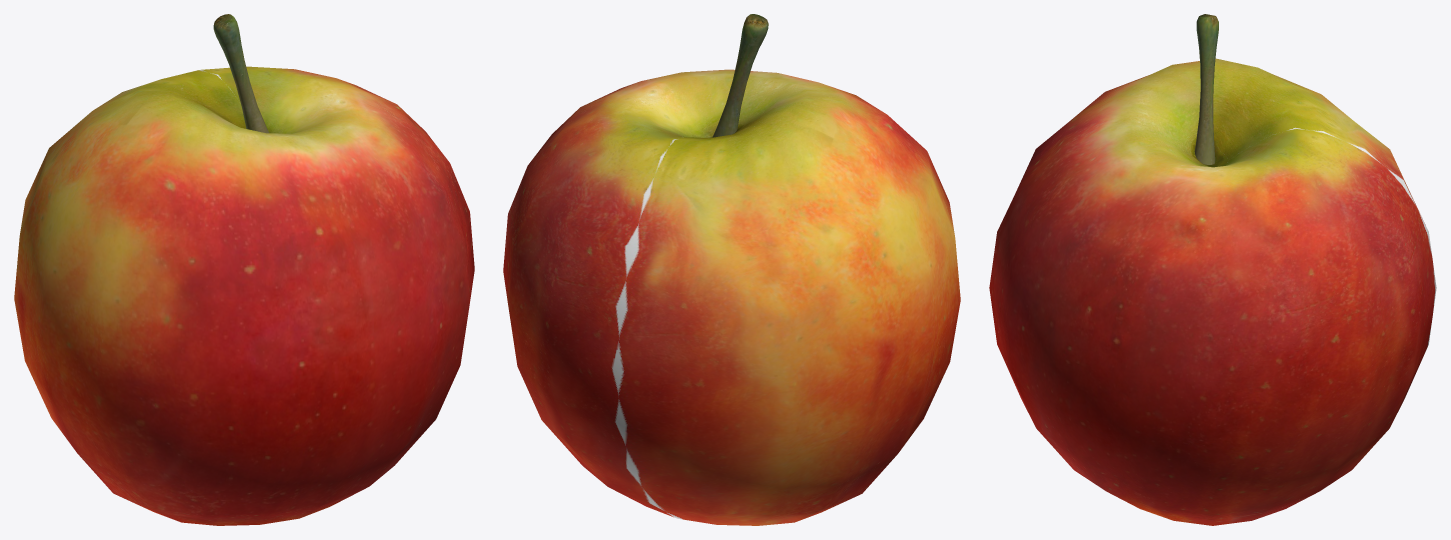
File: apple.glb
3 renders of one model, left to right at view 1: azimuth 30°, elevation 25°; view 2: azimuth 150°, elevation 25°; view 3: azimuth 270°, elevation 25°, orthographic. The views are drawn at different scales.
Visible parts, largest first — view 1: apple_Sphere; view 2: apple_Sphere; view 3: apple_Sphere.
Boxes of the visible parts, x1,y1,x2,y2 form: apple_Sphere: (14, 14, 474, 525); apple_Sphere: (503, 14, 960, 525); apple_Sphere: (989, 14, 1436, 525).
Bounding box in the file's own units: 0.1142 × 0.1302 × 0.1138.
Materials: 1 (1 with a texture image).
